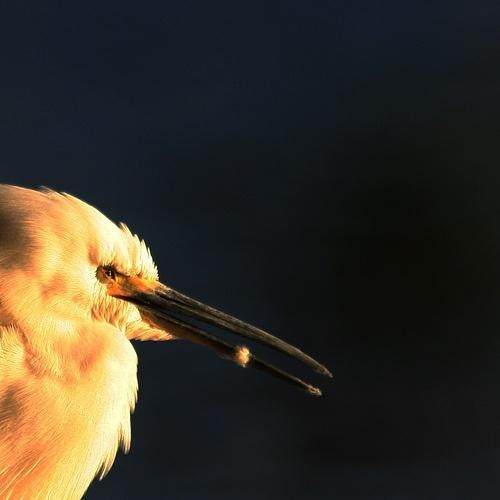bird: (1, 179, 338, 500)
